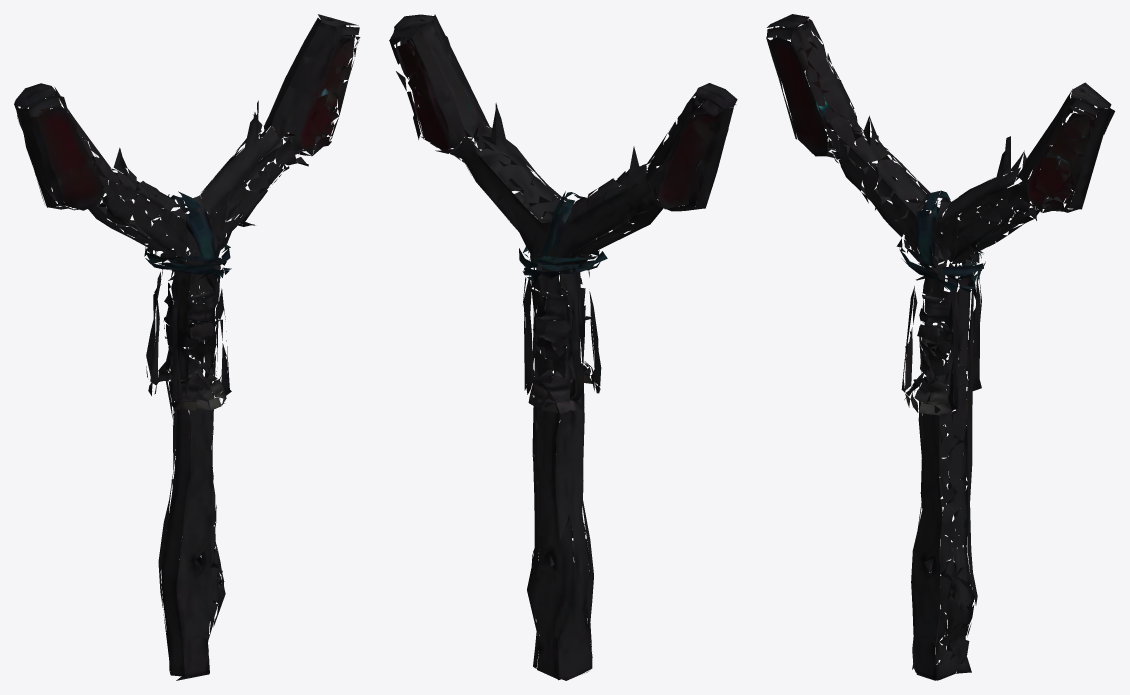
Rendered from prop-route-fork-marker-lod1.glb.
The picture shows the model from 3 angles, left to right: view 1: azimuth 30°, elevation 25°; view 2: azimuth 150°, elevation 25°; view 3: azimuth 330°, elevation 25°; orthographic projection.
Parts seen in each view (by area): view 1: xenovoya_runtime_asset; view 2: xenovoya_runtime_asset; view 3: xenovoya_runtime_asset.
Part boxes in pixels (box(x1,y1,x2,y2)): xenovoya_runtime_asset: box(14, 14, 360, 680); xenovoya_runtime_asset: box(389, 14, 737, 680); xenovoya_runtime_asset: box(766, 14, 1114, 680).
Bounding box in the file's own units: 0.3276 × 0.5692 × 0.0778.
Materials: 1 (1 with a texture image).
